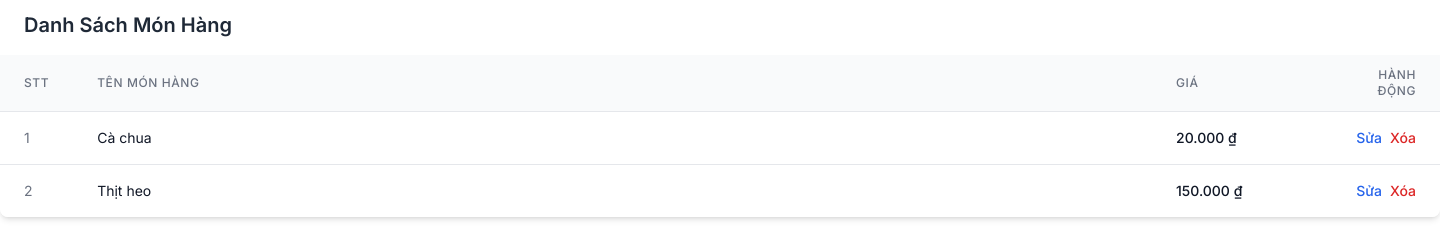
Test case: ItemList Component › Inline Editing › should enter edit mode when clicking Sửa button
Click the button "Sửa" in the row of "Cà chua".
click(1369, 138)  # box [1356,128,1382,148]
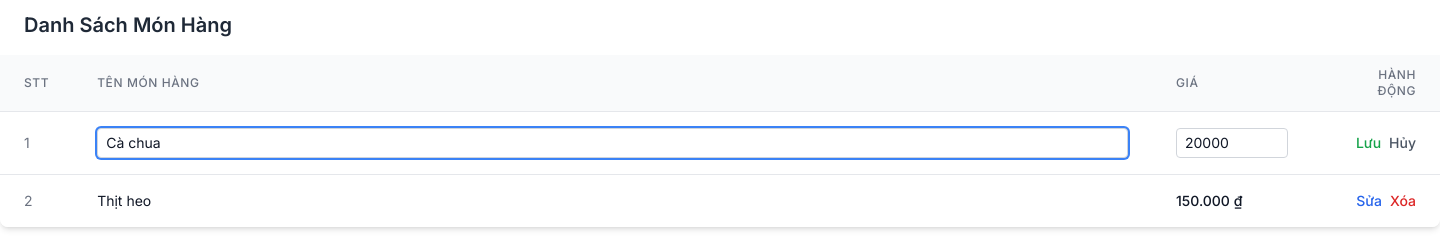
Expected: the 1st field showing "Cà chua" is shown, [97,128,1128,158]
Expected: the 2nd field showing "20000" is shown, [1176,128,1288,158]
Expected: the button "Lưu" is shown, [1356,133,1381,153]
